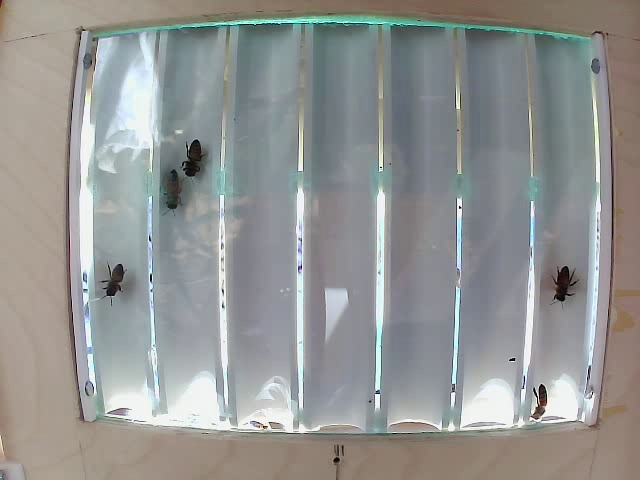bee: (183, 140, 215, 193), (97, 252, 131, 299), (161, 166, 189, 211), (554, 257, 571, 306), (533, 378, 553, 418)
